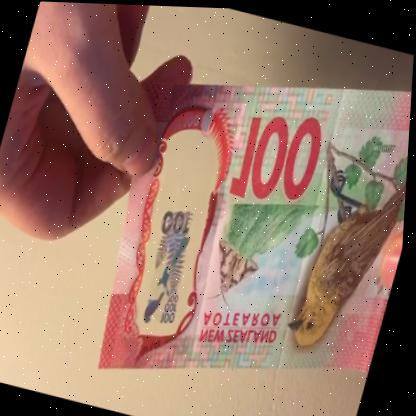100B: (134, 177, 217, 335)
